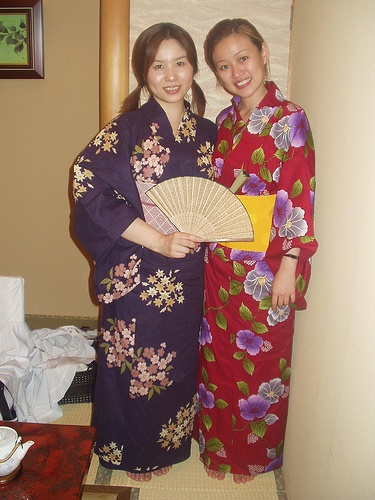head: (131, 21, 204, 104), (202, 17, 273, 98)
person: (67, 18, 230, 485), (189, 6, 316, 497)
